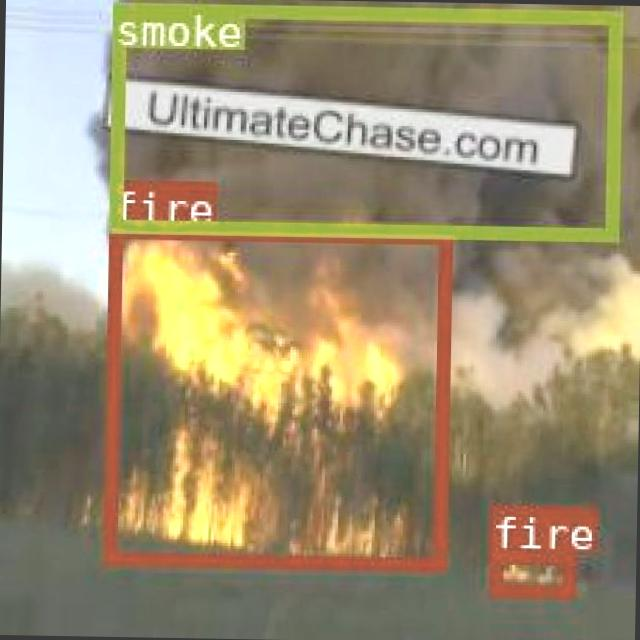fire: (100, 222, 447, 568), (486, 548, 574, 594)
smoke: (106, 0, 620, 237)
